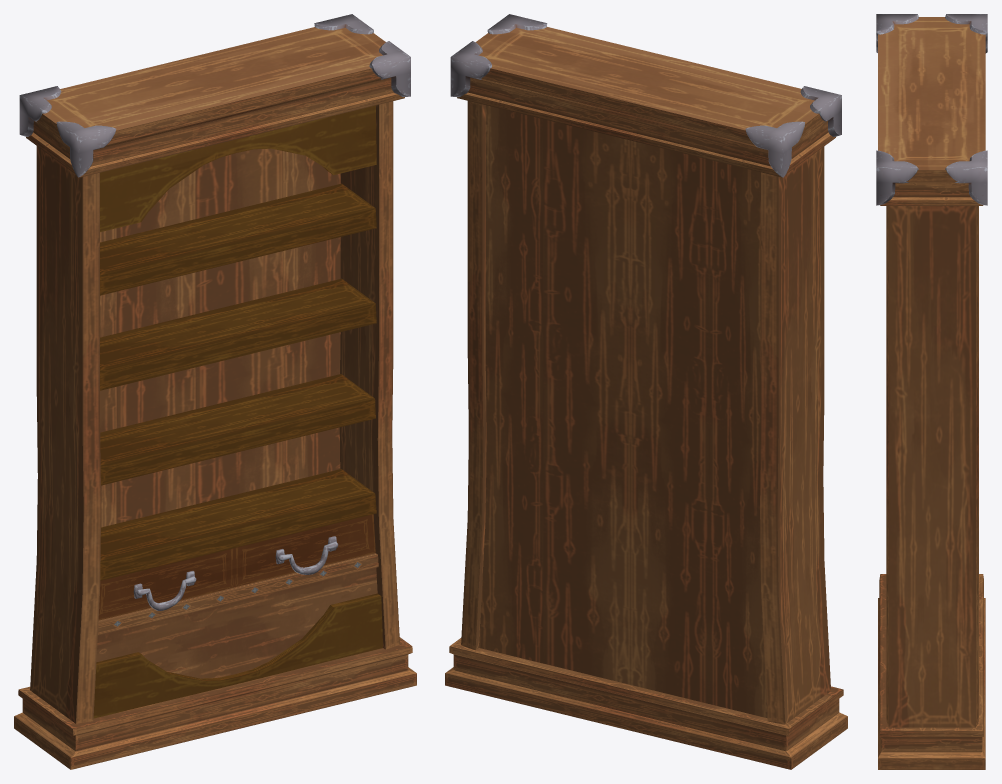
File: Bookcase_2.gltf
3 views of the same model, side by side, from view 1: azimuth 30°, elevation 25°; view 2: azimuth 150°, elevation 25°; view 3: azimuth 270°, elevation 25° (orthographic). The views are drawn at different scales.
Parts seen in each view (by area): view 1: Bookcase_2; view 2: Bookcase_2; view 3: Bookcase_2.
Part boxes in pixels (x1,y1,x2,y2): Bookcase_2: (14, 14, 416, 769); Bookcase_2: (445, 14, 847, 769); Bookcase_2: (876, 14, 987, 769).
Size of the model in its own units: 1.46 by 2.54 by 0.429.
Materials: 2 (2 with a texture image).
